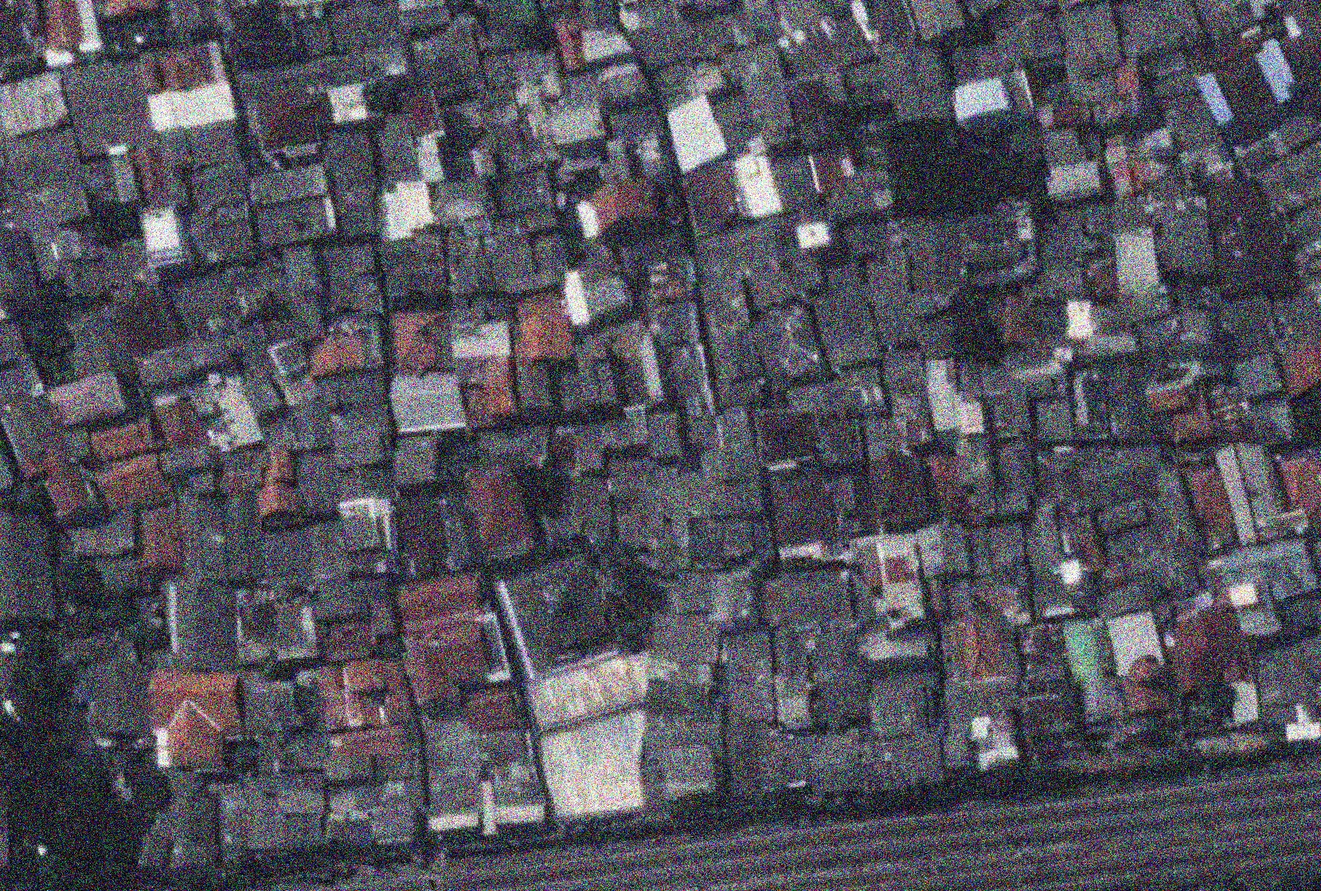building: (690, 212, 835, 407), (1230, 104, 1321, 294), (491, 549, 620, 680), (394, 569, 500, 717), (0, 388, 104, 532), (136, 39, 245, 174), (536, 706, 657, 823), (923, 349, 1070, 441), (606, 452, 713, 578), (523, 643, 659, 733), (1203, 171, 1294, 303), (1002, 619, 1086, 749), (146, 666, 245, 774), (1146, 66, 1236, 183), (1206, 528, 1321, 618), (1157, 594, 1256, 698), (59, 55, 155, 162), (445, 294, 521, 429), (233, 47, 336, 140), (316, 654, 415, 746), (1211, 434, 1291, 547), (419, 704, 486, 835), (458, 459, 540, 566), (570, 168, 669, 254), (645, 612, 720, 725), (692, 217, 795, 299), (165, 255, 267, 337), (247, 161, 339, 251), (1054, 0, 1132, 106), (477, 723, 550, 833), (142, 772, 221, 870), (1056, 614, 1125, 726), (235, 769, 327, 853), (320, 125, 386, 241), (163, 573, 239, 673), (851, 531, 926, 632), (877, 35, 956, 130), (283, 243, 383, 318), (441, 88, 521, 181), (940, 593, 1018, 685), (733, 42, 800, 149), (1148, 182, 1217, 283), (56, 235, 150, 308), (1031, 298, 1139, 361), (325, 775, 421, 845), (392, 564, 490, 632), (320, 721, 419, 788), (0, 124, 86, 201), (768, 470, 839, 563), (809, 286, 884, 374), (407, 19, 488, 100), (553, 250, 635, 330), (616, 0, 701, 77), (107, 275, 183, 361), (0, 510, 56, 626), (535, 471, 618, 549), (134, 331, 233, 396), (1066, 443, 1162, 510), (991, 4, 1072, 83), (1252, 632, 1321, 724), (656, 92, 731, 176), (60, 300, 135, 381), (761, 566, 855, 630), (862, 245, 919, 350), (1251, 138, 1321, 223), (194, 373, 264, 457), (905, 216, 968, 308), (863, 446, 931, 531), (44, 367, 130, 434), (378, 229, 452, 306), (1180, 459, 1241, 552), (679, 157, 749, 237), (92, 449, 173, 518), (770, 0, 838, 82), (1099, 125, 1172, 201), (387, 368, 467, 437), (860, 731, 946, 794), (185, 198, 259, 271), (84, 658, 150, 739), (1039, 124, 1104, 205), (1118, 537, 1190, 610), (1118, 0, 1203, 61), (0, 69, 72, 141), (255, 91, 336, 155), (483, 110, 553, 184), (392, 493, 450, 581), (721, 630, 775, 724), (1273, 296, 1320, 402), (816, 0, 885, 72), (760, 316, 828, 389), (782, 74, 843, 153), (943, 675, 1022, 736), (1113, 651, 1177, 725), (178, 494, 230, 585), (20, 208, 82, 284), (369, 110, 427, 191), (328, 404, 396, 472), (959, 204, 1028, 270), (239, 667, 305, 735), (753, 404, 822, 469), (662, 341, 717, 422), (249, 443, 303, 525), (326, 0, 405, 56), (870, 671, 937, 737), (512, 292, 574, 363), (1102, 362, 1155, 445), (1104, 607, 1166, 677), (219, 491, 266, 583), (969, 564, 1033, 631), (726, 704, 770, 801), (706, 85, 765, 157), (822, 167, 895, 225), (1216, 54, 1278, 122), (1016, 685, 1084, 747), (809, 664, 871, 732), (1108, 227, 1165, 300), (461, 355, 518, 428), (41, 0, 104, 66), (543, 95, 610, 156), (952, 433, 1000, 518), (1024, 502, 1079, 576), (1139, 310, 1217, 361), (806, 730, 865, 797), (571, 332, 621, 411), (730, 148, 784, 221), (477, 0, 550, 54), (376, 178, 437, 242), (658, 740, 722, 801), (391, 309, 450, 375), (151, 392, 210, 458), (1089, 85, 1158, 141), (485, 228, 541, 297), (443, 227, 498, 297), (1042, 209, 1085, 298), (709, 324, 767, 389), (964, 708, 1022, 773), (65, 509, 137, 561), (1218, 293, 1277, 356), (481, 44, 560, 91), (1250, 36, 1303, 106), (138, 203, 191, 273), (87, 415, 158, 467), (1029, 568, 1094, 624), (476, 424, 553, 471), (259, 527, 314, 592), (947, 72, 1013, 126), (981, 372, 1034, 439), (186, 159, 252, 212), (0, 223, 41, 308), (269, 595, 320, 663), (212, 782, 255, 862), (757, 732, 811, 795), (430, 175, 493, 229), (921, 355, 964, 434), (625, 328, 668, 407), (648, 56, 707, 113), (881, 349, 929, 419), (914, 519, 969, 580), (235, 361, 288, 424), (318, 367, 389, 414), (768, 150, 820, 213), (210, 449, 268, 505), (294, 450, 341, 519), (303, 517, 352, 583), (1276, 449, 1320, 522), (19, 184, 90, 229), (741, 258, 799, 313), (705, 569, 757, 630), (305, 329, 367, 380), (1060, 617, 1105, 687), (461, 683, 521, 735), (994, 439, 1035, 515), (494, 166, 556, 216), (1042, 157, 1104, 206), (641, 255, 698, 308), (592, 58, 649, 111), (448, 316, 512, 363), (137, 506, 183, 571), (700, 440, 761, 489), (394, 82, 444, 141), (944, 38, 1005, 86), (836, 364, 888, 420), (319, 615, 378, 664), (0, 354, 47, 415), (1231, 350, 1285, 403), (838, 213, 896, 262), (312, 576, 371, 624), (690, 9, 745, 60), (779, 243, 829, 299), (129, 144, 173, 207), (1035, 444, 1081, 504), (1067, 511, 1110, 575), (904, 0, 968, 43), (806, 622, 861, 672), (646, 299, 701, 349), (841, 57, 891, 112), (604, 452, 660, 501), (1094, 494, 1154, 539), (1248, 395, 1297, 450), (725, 0, 781, 48), (1069, 369, 1109, 436), (289, 396, 336, 453), (807, 145, 858, 197), (1193, 68, 1236, 129), (606, 100, 664, 145), (1143, 373, 1201, 417), (783, 76, 833, 127), (392, 434, 439, 488), (859, 630, 929, 666), (703, 478, 764, 519), (1096, 579, 1158, 619), (286, 288, 329, 344), (858, 411, 907, 460), (265, 334, 313, 384), (714, 513, 761, 564), (1282, 334, 1320, 397), (1194, 0, 1257, 38), (773, 672, 812, 731), (599, 405, 649, 451), (1167, 398, 1215, 445), (1283, 26, 1320, 86), (1007, 350, 1067, 387), (644, 409, 685, 463), (819, 418, 864, 467), (1285, 199, 1320, 262), (516, 361, 557, 414), (666, 569, 713, 615), (551, 13, 587, 73), (107, 143, 141, 205), (593, 136, 636, 185), (165, 0, 220, 37), (158, 443, 214, 479), (785, 382, 844, 416), (1106, 193, 1152, 236), (1034, 396, 1075, 444), (986, 521, 1026, 570), (361, 43, 410, 83), (397, 0, 451, 36), (770, 624, 807, 676), (1008, 354, 1068, 386), (629, 131, 668, 180), (688, 517, 724, 570), (326, 82, 370, 125), (1036, 98, 1092, 131), (580, 29, 632, 63), (318, 52, 367, 88), (713, 407, 753, 451), (999, 295, 1032, 348), (571, 424, 605, 475), (1235, 603, 1283, 639), (88, 557, 140, 589), (553, 368, 586, 417), (817, 62, 851, 107), (940, 730, 974, 773), (1230, 680, 1260, 726), (1094, 557, 1131, 592), (577, 0, 619, 29), (956, 396, 985, 435), (1083, 203, 1112, 238), (104, 0, 158, 18), (1115, 61, 1141, 97), (1057, 559, 1085, 586), (963, 0, 1004, 18), (649, 731, 672, 755), (558, 329, 571, 358), (1186, 574, 1195, 592)
tree: (888, 113, 1021, 220), (0, 767, 95, 862), (75, 794, 155, 874), (871, 767, 988, 821), (0, 626, 75, 710), (0, 698, 74, 781), (983, 754, 1081, 801), (8, 827, 79, 891), (47, 743, 112, 810), (948, 294, 1005, 369), (596, 539, 655, 607), (49, 552, 107, 616), (116, 760, 174, 819), (661, 787, 722, 841), (92, 192, 145, 254), (1181, 677, 1240, 730), (515, 460, 567, 517), (185, 855, 262, 891), (90, 587, 136, 634), (6, 478, 53, 524), (605, 211, 660, 247), (936, 20, 990, 55), (1019, 155, 1051, 210), (125, 617, 167, 656), (100, 740, 142, 778), (222, 740, 261, 776), (616, 618, 654, 654), (1293, 399, 1319, 450), (445, 117, 480, 153), (522, 19, 558, 53), (363, 81, 400, 114), (552, 211, 586, 242), (557, 239, 589, 271), (430, 465, 461, 495), (976, 282, 1015, 302), (429, 698, 460, 720), (1141, 726, 1170, 747), (435, 435, 456, 459)
